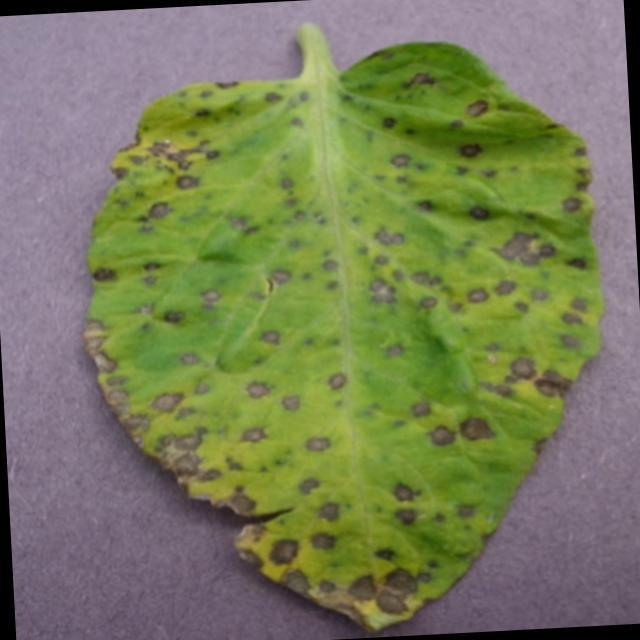Bacterial Spot: (148, 62, 548, 626)
